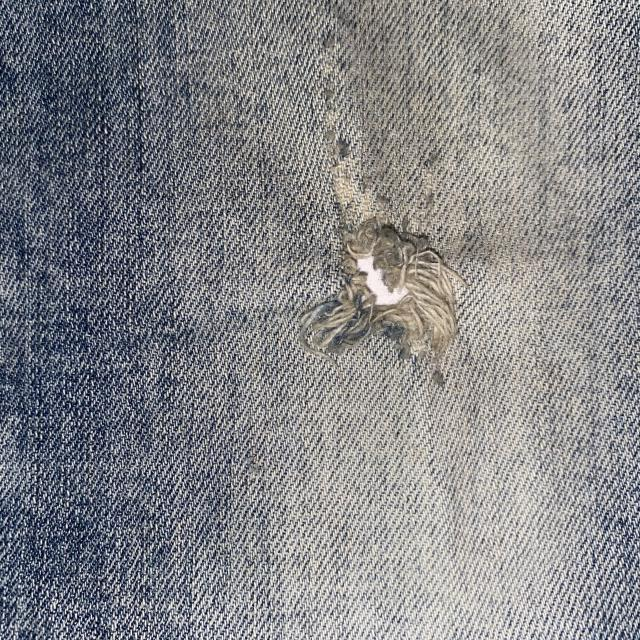Hole: (294, 214, 468, 388)
